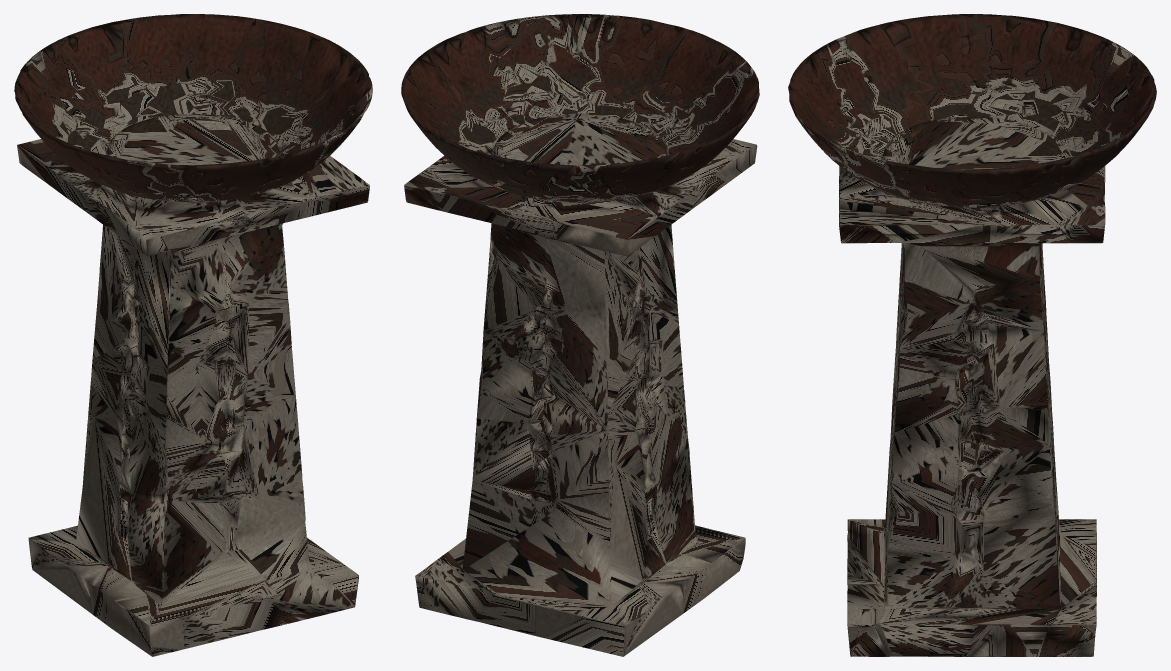
File: basin.glb
3 renders of one model, left to right at view 1: azimuth 30°, elevation 25°; view 2: azimuth 150°, elevation 25°; view 3: azimuth 270°, elevation 25°, orthographic. The views are drawn at different scales.
Parts seen in each view (by area): view 1: output_unwrapped; view 2: output_unwrapped; view 3: output_unwrapped.
Boxes of the visible parts, left/top/right/bottom form: output_unwrapped: left=14, top=14, right=372, bottom=656; output_unwrapped: left=401, top=14, right=759, bottom=656; output_unwrapped: left=788, top=14, right=1156, bottom=656.
Size of the model in its own units: 1.24 by 1.9 by 1.24.
1 material, 1 textured.
